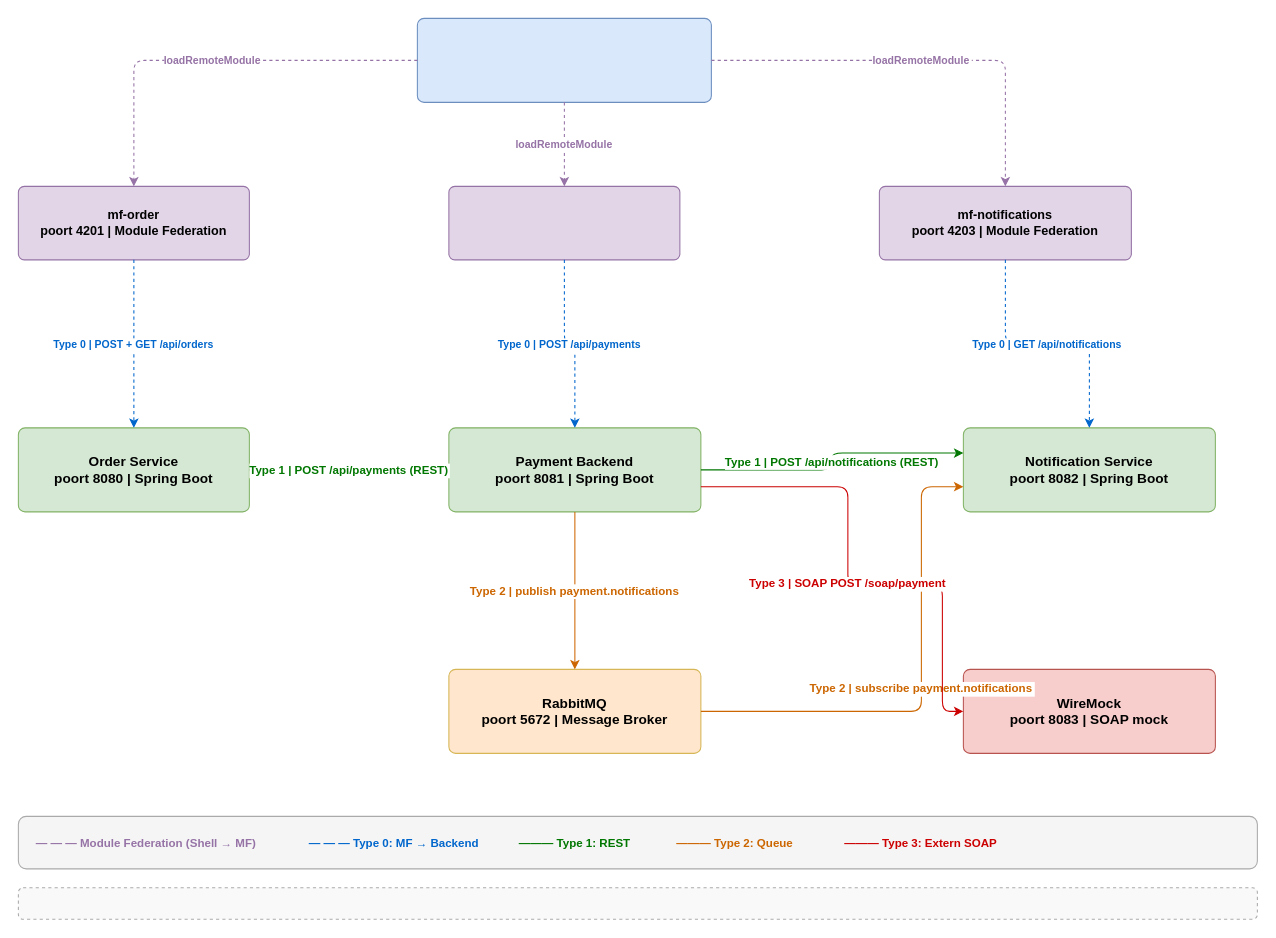
Image size: 1276x938. Some labels were removed from this diagram. The box of each missing label's shape, as (x1, y1, x2, y2) in pixels:
Docker Compose netwerk: (17, 887, 1257, 919)
mf-payments poort 4202 | Module Federation: (448, 185, 680, 260)
Portal Shell poort 4200 | Angular + Material: (416, 17, 711, 102)
